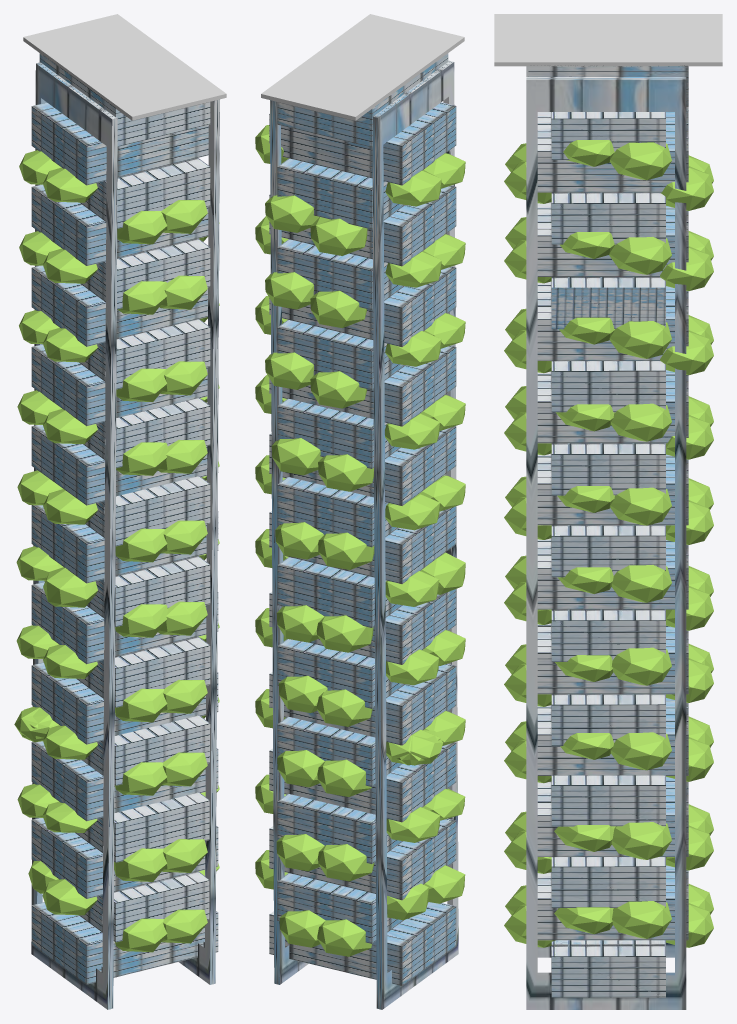
Rendered from Flat NY plant.fbx.
3 renders of one model, left to right at view 1: azimuth 30°, elevation 25°; view 2: azimuth 150°, elevation 25°; view 3: azimuth 270°, elevation 25°, orthographic. The views are drawn at different scales.
Parts seen in each view (by area): view 1: Verdieping .021, Verdieping .022, Bush01.010, Bush01.052, Bush01.011, Bush01.001, Bush01.056, Bush01.055, Bush01.014, Bush01.054, Bush01.058, Bush01.017 (+30 smaller); view 2: Verdieping .021, Verdieping .022, Bush01.035, Bush01.030, Bush01.031, Bush01.032, Bush01.034, Bush01.033, Bush01.024, Bush01.027, Bush01.040, Bush01.022 (+38 smaller); view 3: Verdieping .021, Verdieping .022, Bush01.069, Bush01.062, Bush01.068, Bush01.070, Bush01.066, Bush01.061, Bush01.067, Bush01.065, Bush01.064, Bush01.063 (+32 smaller).
Part boxes in pixels (x1,y1,x2,y2): Verdieping .021: [23, 14, 226, 1009]; Verdieping .022: [31, 902, 218, 984]; Bush01.010: [43, 567, 97, 607]; Bush01.052: [114, 848, 167, 881]; Bush01.011: [43, 489, 97, 524]; Bush01.001: [42, 879, 97, 915]; Bush01.056: [115, 528, 167, 562]; Bush01.055: [115, 604, 168, 637]; Bush01.014: [43, 409, 97, 444]; Bush01.054: [115, 688, 167, 722]; Bush01.058: [116, 368, 167, 402]; Bush01.017: [43, 248, 97, 283]; Verdieping .021: [261, 14, 464, 1009]; Verdieping .022: [269, 902, 456, 985]; Bush01.035: [310, 217, 367, 255]; Bush01.030: [316, 615, 373, 652]; Bush01.031: [318, 532, 374, 569]; Bush01.032: [318, 454, 373, 491]; Bush01.034: [310, 290, 366, 328]; Bush01.033: [310, 371, 366, 408]; Bush01.024: [318, 844, 374, 881]; Bush01.027: [316, 689, 372, 726]; Bush01.040: [265, 195, 319, 232]; Bush01.022: [317, 919, 372, 956]; Verdieping .021: [494, 14, 722, 1009]; Verdieping .022: [551, 940, 665, 997]; Bush01.069: [609, 237, 671, 274]; Bush01.062: [611, 822, 671, 859]; Bush01.068: [609, 321, 671, 358]; Bush01.070: [610, 142, 671, 180]; Bush01.066: [610, 487, 671, 525]; Bush01.061: [612, 901, 671, 938]; Bush01.067: [611, 403, 671, 441]; Bush01.065: [611, 565, 671, 602]; Bush01.064: [611, 647, 671, 685]; Bush01.063: [611, 732, 671, 770].
Size of the model in its own units: 9446 by 45637 by 10000.
